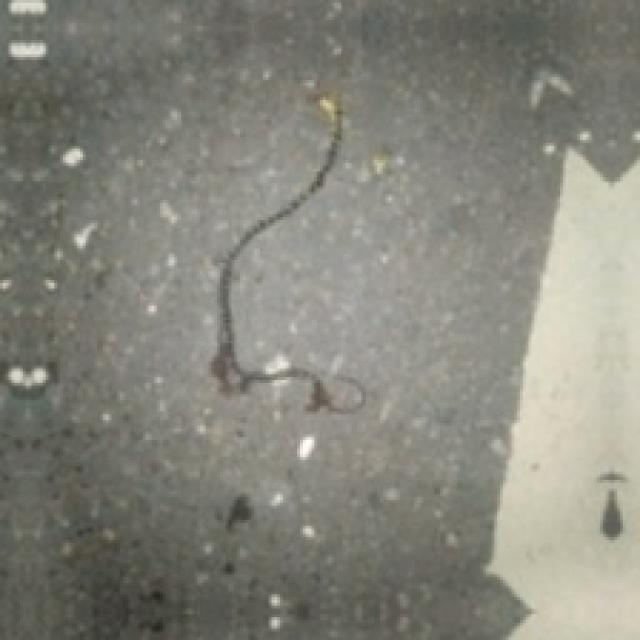mangrove cat snake: (211, 91, 363, 411)
